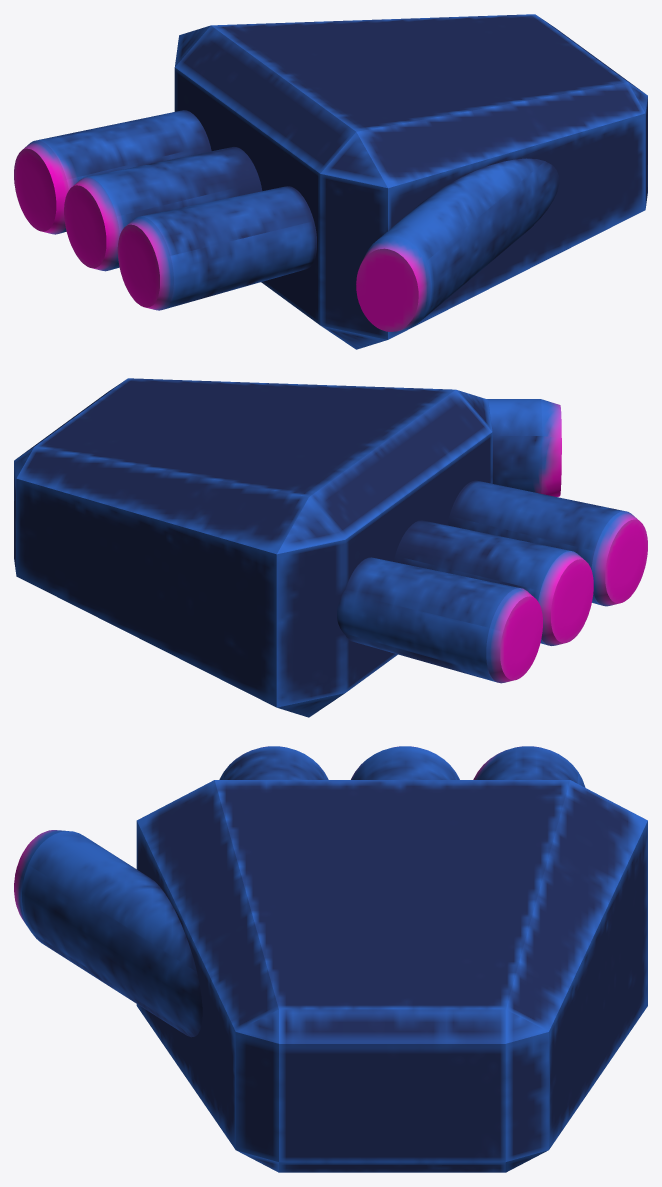
The model's file is robot_hand_R.fbx.
3 views of the same model, one above another, from view 1: azimuth 30°, elevation 25°; view 2: azimuth 150°, elevation 25°; view 3: azimuth 270°, elevation 25° (orthographic). The views are drawn at different scales.
Parts seen in each view (by area): view 1: hand_R; view 2: hand_R; view 3: hand_R.
Boxes of the visible parts, x1,y1,x2,y2 form: hand_R: (14, 14, 647, 349); hand_R: (14, 378, 647, 717); hand_R: (14, 746, 647, 1172).
Bounding box in the file's own units: 10.53 × 4.28 × 9.22.
